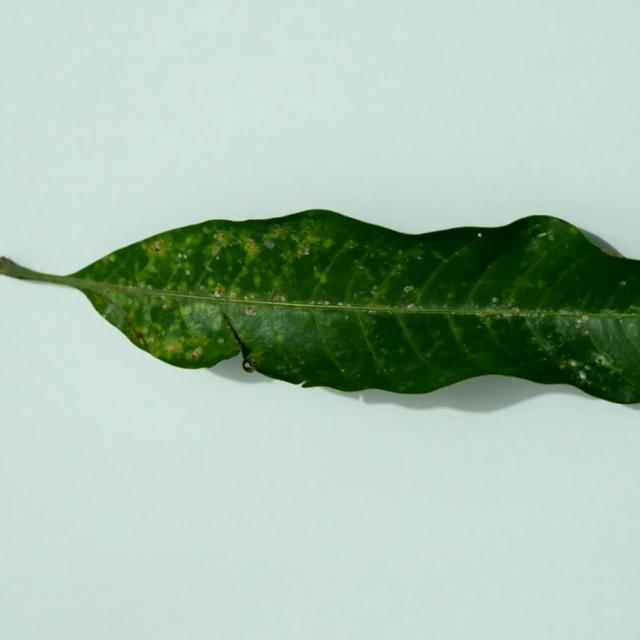Mango: (0, 210, 639, 403)
Powdery_Mildew: (339, 241, 440, 303), (249, 225, 324, 265), (564, 350, 610, 381), (209, 287, 255, 305), (233, 233, 261, 258), (161, 338, 186, 357), (314, 267, 330, 286), (270, 287, 288, 303), (203, 273, 220, 289), (478, 308, 504, 318), (213, 231, 230, 245), (498, 308, 522, 317), (133, 328, 146, 344), (252, 273, 262, 289), (363, 314, 376, 326), (211, 244, 223, 257), (596, 355, 610, 365), (270, 228, 285, 237), (192, 346, 203, 358), (485, 316, 496, 328), (214, 286, 224, 298), (244, 306, 256, 316), (315, 302, 327, 311), (626, 304, 637, 313), (105, 253, 115, 262), (314, 300, 329, 306), (263, 241, 274, 249), (152, 242, 161, 251), (117, 277, 127, 285), (212, 233, 221, 241), (579, 370, 587, 379), (537, 232, 548, 238), (547, 233, 555, 241), (569, 360, 577, 367), (178, 253, 186, 260), (559, 362, 567, 369), (575, 318, 582, 325), (380, 348, 387, 355), (217, 338, 225, 344), (582, 315, 589, 321), (399, 348, 406, 354), (147, 337, 154, 343), (634, 305, 640, 312), (512, 307, 520, 312), (492, 297, 498, 303), (619, 281, 626, 286), (211, 292, 217, 297), (639, 68, 640, 72)
